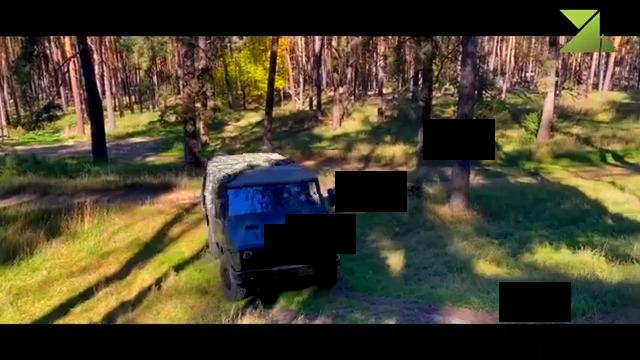MIL_HMMWV: (202, 151, 343, 296)
